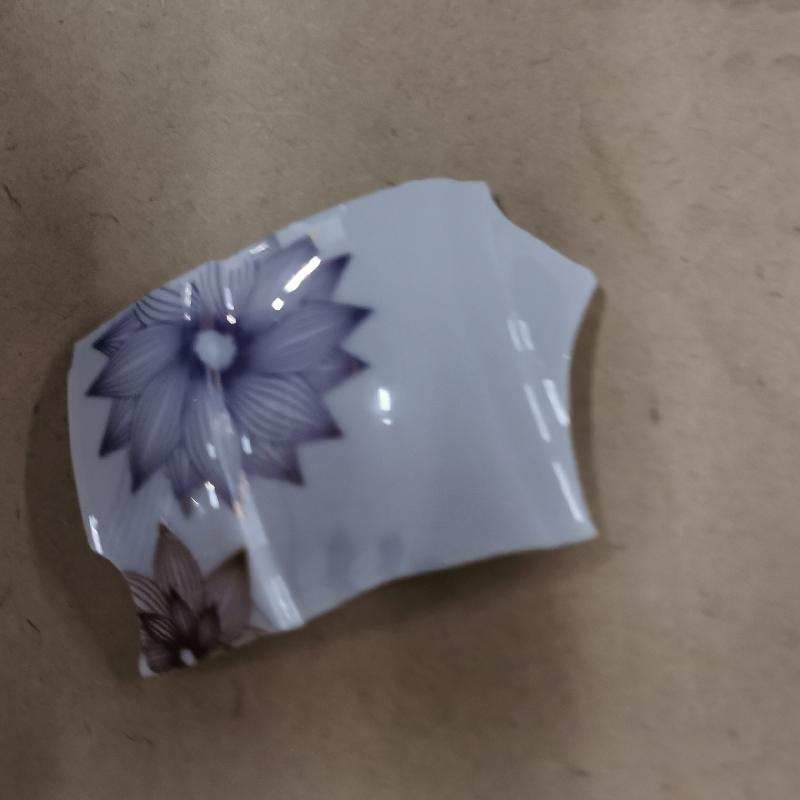ceram: (60, 167, 608, 678)
